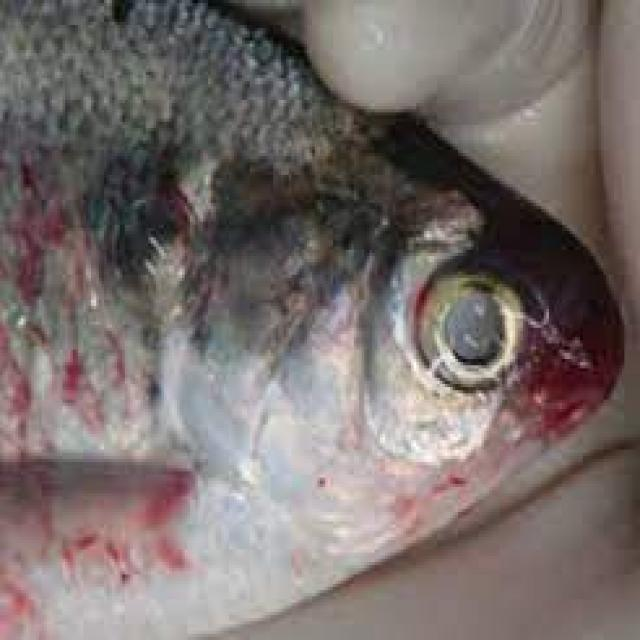EUS Disease: (0, 5, 629, 640)
